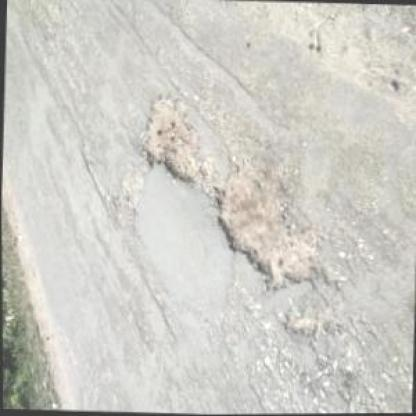pothole: (210, 154, 317, 290), (135, 87, 208, 188), (284, 304, 320, 338)
